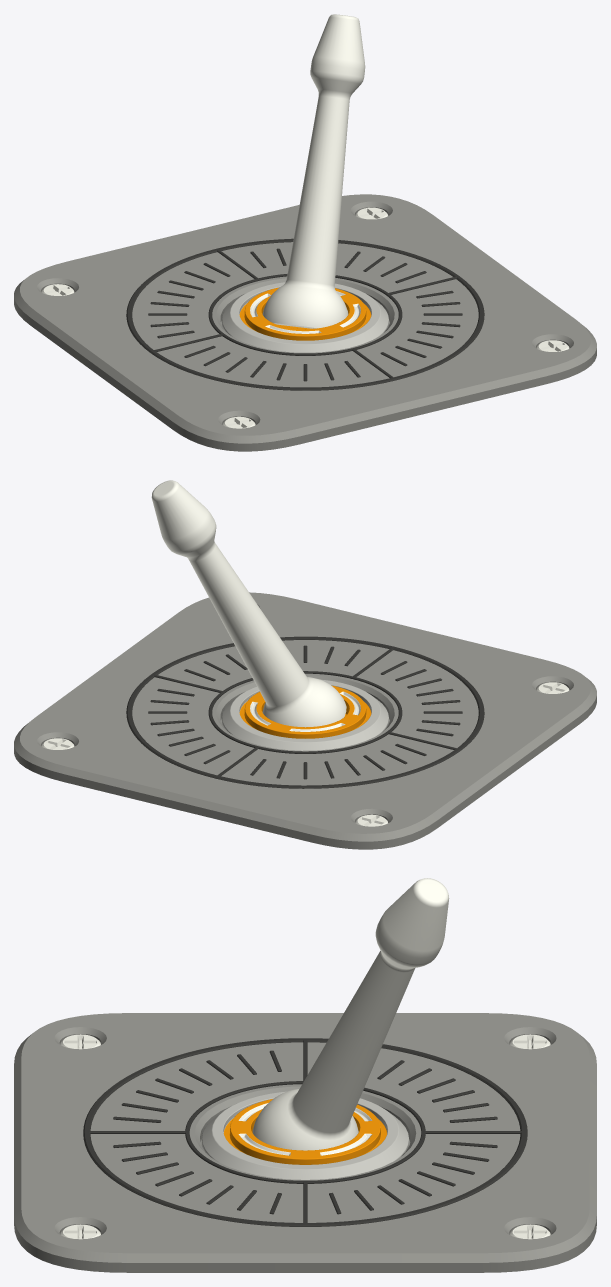
Rendered from Joystick #1.fbx.
3 renders of one model, top to bottom at view 1: azimuth 30°, elevation 25°; view 2: azimuth 150°, elevation 25°; view 3: azimuth 270°, elevation 25°, orthographic. The views are drawn at different scales.
Parts seen in each view (by area): view 1: kitbash_76; view 2: kitbash_76; view 3: kitbash_76.
Boxes of the visible parts, x1,y1,x2,y2 form: kitbash_76: (14, 14, 596, 451); kitbash_76: (14, 480, 596, 849); kitbash_76: (14, 878, 596, 1272).
Bounding box in the file's own units: 13.73 × 8.89 × 13.73.
